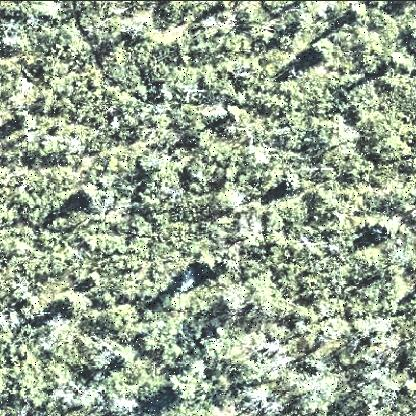tree-top: (60, 285, 88, 319), (191, 252, 216, 280), (307, 40, 332, 65), (366, 222, 393, 243), (279, 173, 303, 196), (167, 379, 189, 403), (77, 187, 99, 208), (15, 110, 35, 130), (86, 270, 106, 289)
